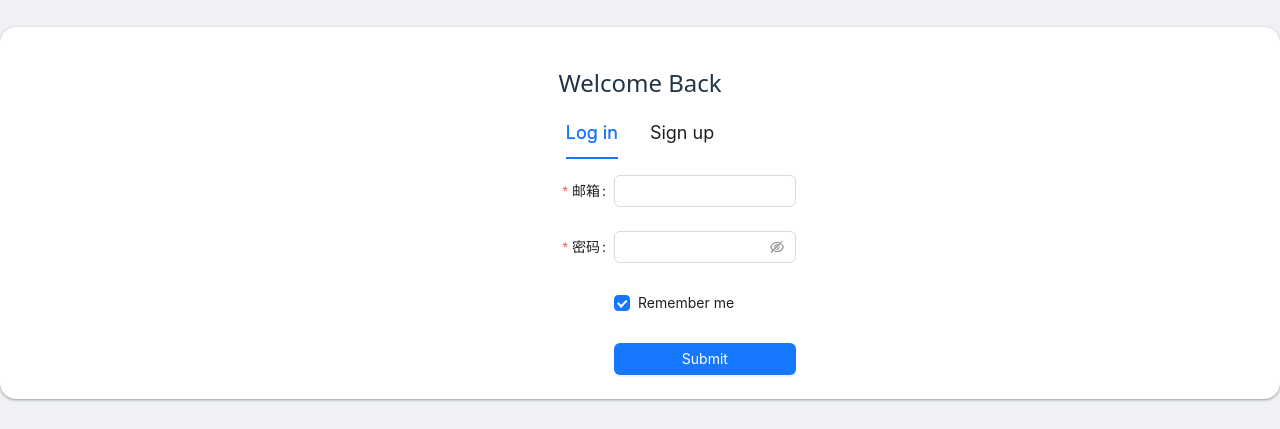
Test: template spec › 校验必填项提示
Click the button with test id "login-submit" at (705, 359), box [614,343,796,375]
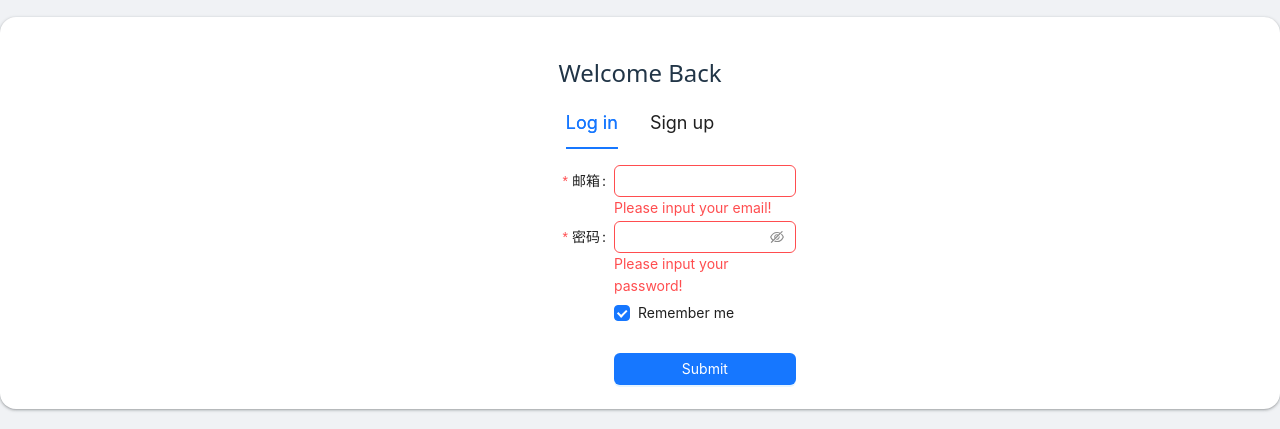
Check: the text "Please input your email!" is shown, box [614,197,796,219]
Check: the text "Please input your password!" is shown, box [614,255,729,294]
